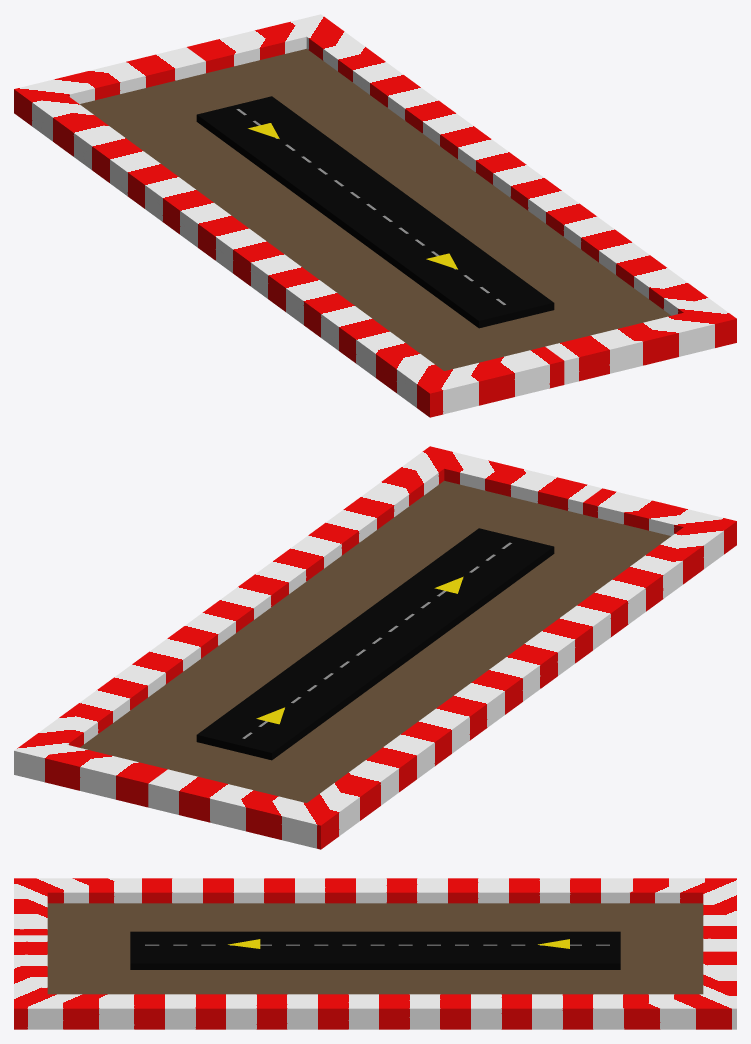
The model's file is alf.FBX.
3 renders of one model, top to bottom at view 1: azimuth 30°, elevation 25°; view 2: azimuth 150°, elevation 25°; view 3: azimuth 270°, elevation 25°, orthographic. The views are drawn at different scales.
Parts seen in each view (by area): view 1: alf_coll, alf_floor, alf; view 2: alf_coll, alf_floor, alf; view 3: alf_coll, alf_floor, alf, Line0.
Boxes of the visible parts, box(x1,y1,x2,y2) form: alf_coll: box(14, 14, 736, 417); alf_floor: box(80, 48, 670, 370); alf: box(196, 96, 554, 328); alf_coll: box(14, 446, 736, 849); alf_floor: box(80, 480, 670, 802); alf: box(196, 528, 554, 760); alf_coll: box(14, 878, 736, 1029); alf_floor: box(47, 903, 703, 994); alf: box(130, 931, 620, 969); Line0: box(145, 944, 609, 945).
Bounding box in the file's own units: 437 × 32.76 × 1026.
